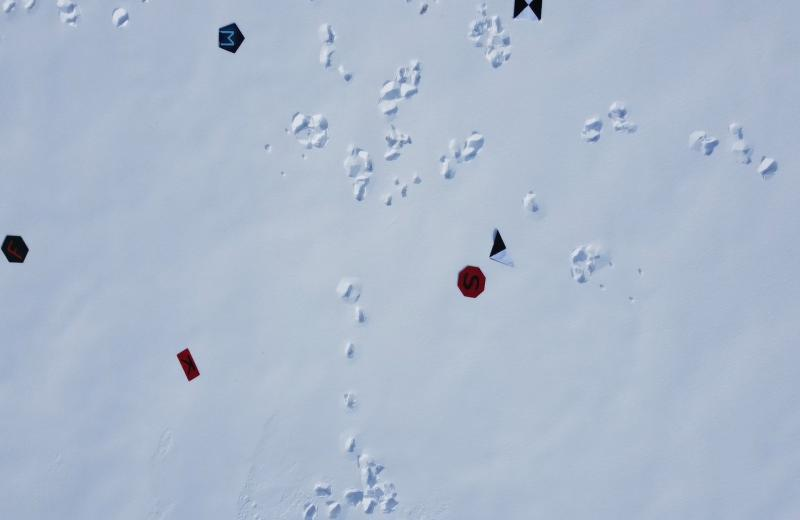Hexagon: (1, 234, 30, 264)
Octagon: (457, 263, 490, 301)
Pentagon: (217, 22, 248, 56)
Rectangle: (177, 348, 199, 384)
